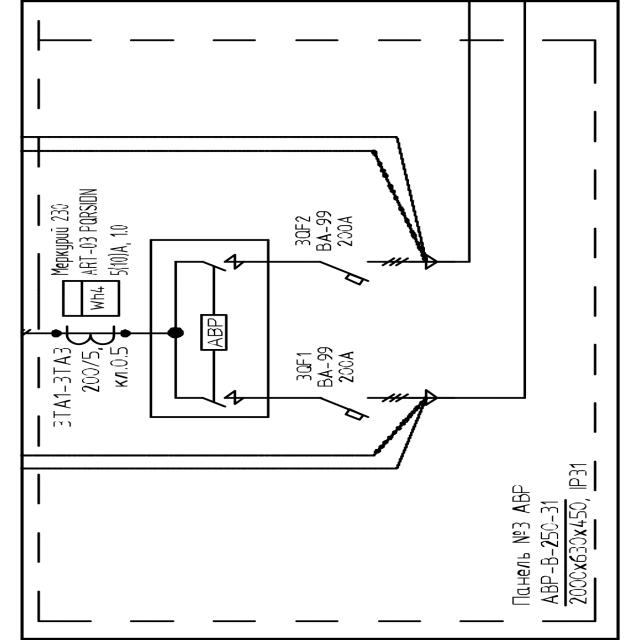-: (48, 186, 140, 278), (539, 458, 589, 606), (78, 345, 134, 395), (316, 344, 360, 396), (314, 206, 357, 256)
AVR: (194, 310, 236, 354)
KM: (200, 252, 246, 274), (198, 390, 246, 410)
QF: (316, 388, 376, 421), (318, 254, 378, 287)
TT: (62, 322, 122, 347)
WH: (59, 278, 124, 320)
